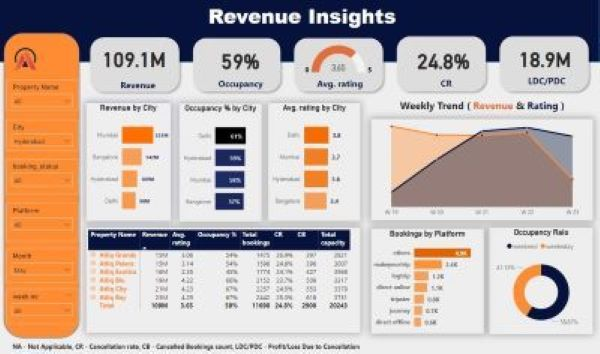

What the dashboard file says about the page in this screenshot:
{"tool":"powerbi","page":{"name":"overall_dashboard","canvas":[1280,760],"ordinal":0},"visuals":[{"type":"shape","box":[0,0,1280,134.4],"z":0},{"type":"textbox","box":[0,0,1278.1,75.7],"z":0,"group":"g1"},{"type":"group","id":"g1","title":"visuals","box":[0,0,1278.1,727],"z":1000},{"type":"shape","box":[1058.5,70.1,208.3,136.3],"z":1000,"group":"g1"},{"type":"shape","box":[839.3,70.1,208.3,136.3],"z":2000,"group":"g1"},{"type":"textbox","box":[443.5,163.2,145.1,44.5],"z":2000},{"type":"shape","box":[620.1,73.8,208.3,132.5],"z":3000,"group":"g1"},{"type":"textbox","box":[880.3,161.6,145.1,44.5],"z":3000},{"type":"shape","box":[404.7,73.8,204.5,132.5],"z":4000,"group":"g1"},{"type":"textbox","box":[1094.7,156.6,145.1,44.5],"z":4000},{"type":"textbox","box":[224.2,164.9,145.1,39.6],"z":5000},{"type":"clusteredBarChart","title":"Revenue by City","fields":{"Category":["dim_hotels.city"],"Y":["resource_measures.revenue"]},"box":[185.9,222.1,181,251.7],"z":5000,"group":"g1"},{"type":"card","fields":{"Values":["resource_measures.Occupancy %"]},"box":[454.4,96.6,119.3,64.4],"z":6000,"group":"g1"},{"type":"textbox","box":[654.5,163.2,145.1,44.5],"z":6000},{"type":"textbox","box":[802.3,207.8,456.5,48.5],"z":6500},{"type":"textbox","box":[24.7,727,1063.3,33],"z":6750},{"type":"clusteredBarChart","title":"Occupancy % by City","fields":{"Category":["dim_hotels.city"],"Y":["resource_measures.Occupancy %"]},"box":[384.1,222.6,176.4,252.2],"z":7000,"group":"g1"},{"type":"gauge","fields":{"MaxValue":["resource_measures.max.rating"],"MinValue":["resource_measures.min.rating"],"Y":["resource_measures.avg.rating mod"]},"box":[643,87.4,161.6,84.1],"z":8000,"group":"g1"},{"type":"clusteredBarChart","title":"Avg. rating by City","fields":{"Category":["dim_hotels.city"],"Y":["resource_measures.Avg. rating"]},"box":[573.7,220.9,196.2,252.2],"z":9000,"group":"g1"},{"type":"donutChart","title":"Occupancy Raio","fields":{"Category":["dim_date.day_type"],"Y":["resource_measures.Occupancy %"]},"box":[1045.2,488,220.9,227.5],"z":10000,"group":"g1"},{"type":"areaChart","title":"Weekly Trend (Revenue & Rating)","fields":{"Category":["dim_date.week no"],"Y2":["resource_measures.Avg. rating"],"Y":["resource_measures.revenue"]},"box":[793.2,256.3,473.2,216.9],"z":11000,"group":"g1"},{"type":"clusteredBarChart","title":"Bookings by Platform","fields":{"Category":["fact_bookings.booking_platform"],"Y":["resource_measures.Total bookings"]},"box":[793,489.6,240.7,224.2],"z":12000,"group":"g1"},{"type":"pivotTable","fields":{"Rows":["dim_hotels.property_name","dim_hotels.city"],"Values":["resource_measures.revenue","resource_measures.Avg. rating","resource_measures.Occupancy %","resource_measures.Total bookings","resource_measures.CR","resource_measures.Total cancelled bookings","resource_measures.Total capacity"]},"box":[186.3,488,583.6,224.2],"z":13000,"group":"g1"},{"type":"shape","box":[8.2,69.2,168.2,657.8],"z":14000,"group":"g1"},{"type":"slicer","fields":{"Values":["dim_date.week no"]},"box":[14.8,618.2,155,74.2],"z":15000,"group":"g1"},{"type":"slicer","fields":{"Values":["dim_date.mmm yy.Variation.Date Hierarchy.Month"]},"box":[14.8,532.5,155,72.5],"z":16000,"group":"g1"},{"type":"slicer","fields":{"Values":["fact_bookings.booking_platform"]},"box":[15.1,435.8,155.3,81.4],"z":17000,"group":"g1"},{"type":"slicer","fields":{"Values":["fact_bookings.booking_status"]},"box":[15.1,341.5,155.3,75.7],"z":18000,"group":"g1"},{"type":"slicer","fields":{"Values":["dim_hotels.city"]},"box":[15.1,256.7,155.3,66.3],"z":19000,"group":"g1"},{"type":"slicer","fields":{"Values":["dim_hotels.property_name"]},"box":[15.1,171.9,155.3,66.3],"z":20000,"group":"g1"},{"type":"card","fields":{"Values":["resource_measures.LDC"]},"box":[1088.6,87.4,150,74.2],"z":21000,"group":"g1"},{"type":"card","fields":{"Values":["resource_measures.CR"]},"box":[869.1,77.6,155.3,102.2],"z":22000,"group":"g1"},{"type":"shape","box":[185.6,72,208.3,134.4],"z":23000,"group":"g1"},{"type":"card","fields":{"Values":["resource_measures.revenue"]},"box":[206.7,87.4,163.2,74.2],"z":24000,"group":"g1"},{"type":"image","title":"atliq","box":[15.1,90.4,77.6,73.8],"z":25000,"group":"g1"}]}

Visuals, with their boxes in screenshot pixels (x1, y1, x2, y2), scaled from the page's 1280x760 canvas onto the 600x354 screenshot:
shape: 0:0:599:63
textbox: 0:0:599:35
"visuals" group: 0:0:599:339
shape: 496:33:594:96
shape: 393:33:491:96
textbox: 208:76:276:97
shape: 291:34:388:96
textbox: 413:75:481:96
shape: 190:34:286:96
textbox: 513:73:581:94
textbox: 105:77:173:95
"Revenue by City" clusteredBarChart: 87:103:172:221
card - resource_measures.Occupancy %: 213:45:269:75
textbox: 307:76:375:97
textbox: 376:97:590:119
textbox: 12:339:510:353
"Occupancy % by City" clusteredBarChart: 180:104:263:221
gauge - resource_measures.max.rating x resource_measures.min.rating: 301:41:377:80
"Avg. rating by City" clusteredBarChart: 269:103:361:220
"Occupancy Raio" donutChart: 490:227:593:333
"Weekly Trend (Revenue & Rating)" areaChart: 372:119:594:220
"Bookings by Platform" clusteredBarChart: 372:228:485:332
pivotTable - dim_hotels.property_name x dim_hotels.city: 87:227:361:332
shape: 4:32:83:339
slicer - dim_date.week no: 7:288:80:323
slicer - dim_date.mmm yy.Variation.Date Hierarchy.Month: 7:248:80:282
slicer - fact_bookings.booking_platform: 7:203:80:241
slicer - fact_bookings.booking_status: 7:159:80:194
slicer - dim_hotels.city: 7:120:80:150
slicer - dim_hotels.property_name: 7:80:80:111
card - resource_measures.LDC: 510:41:581:75
card - resource_measures.CR: 407:36:480:84
shape: 87:34:185:96
card - resource_measures.revenue: 97:41:173:75
"atliq" image: 7:42:43:76
